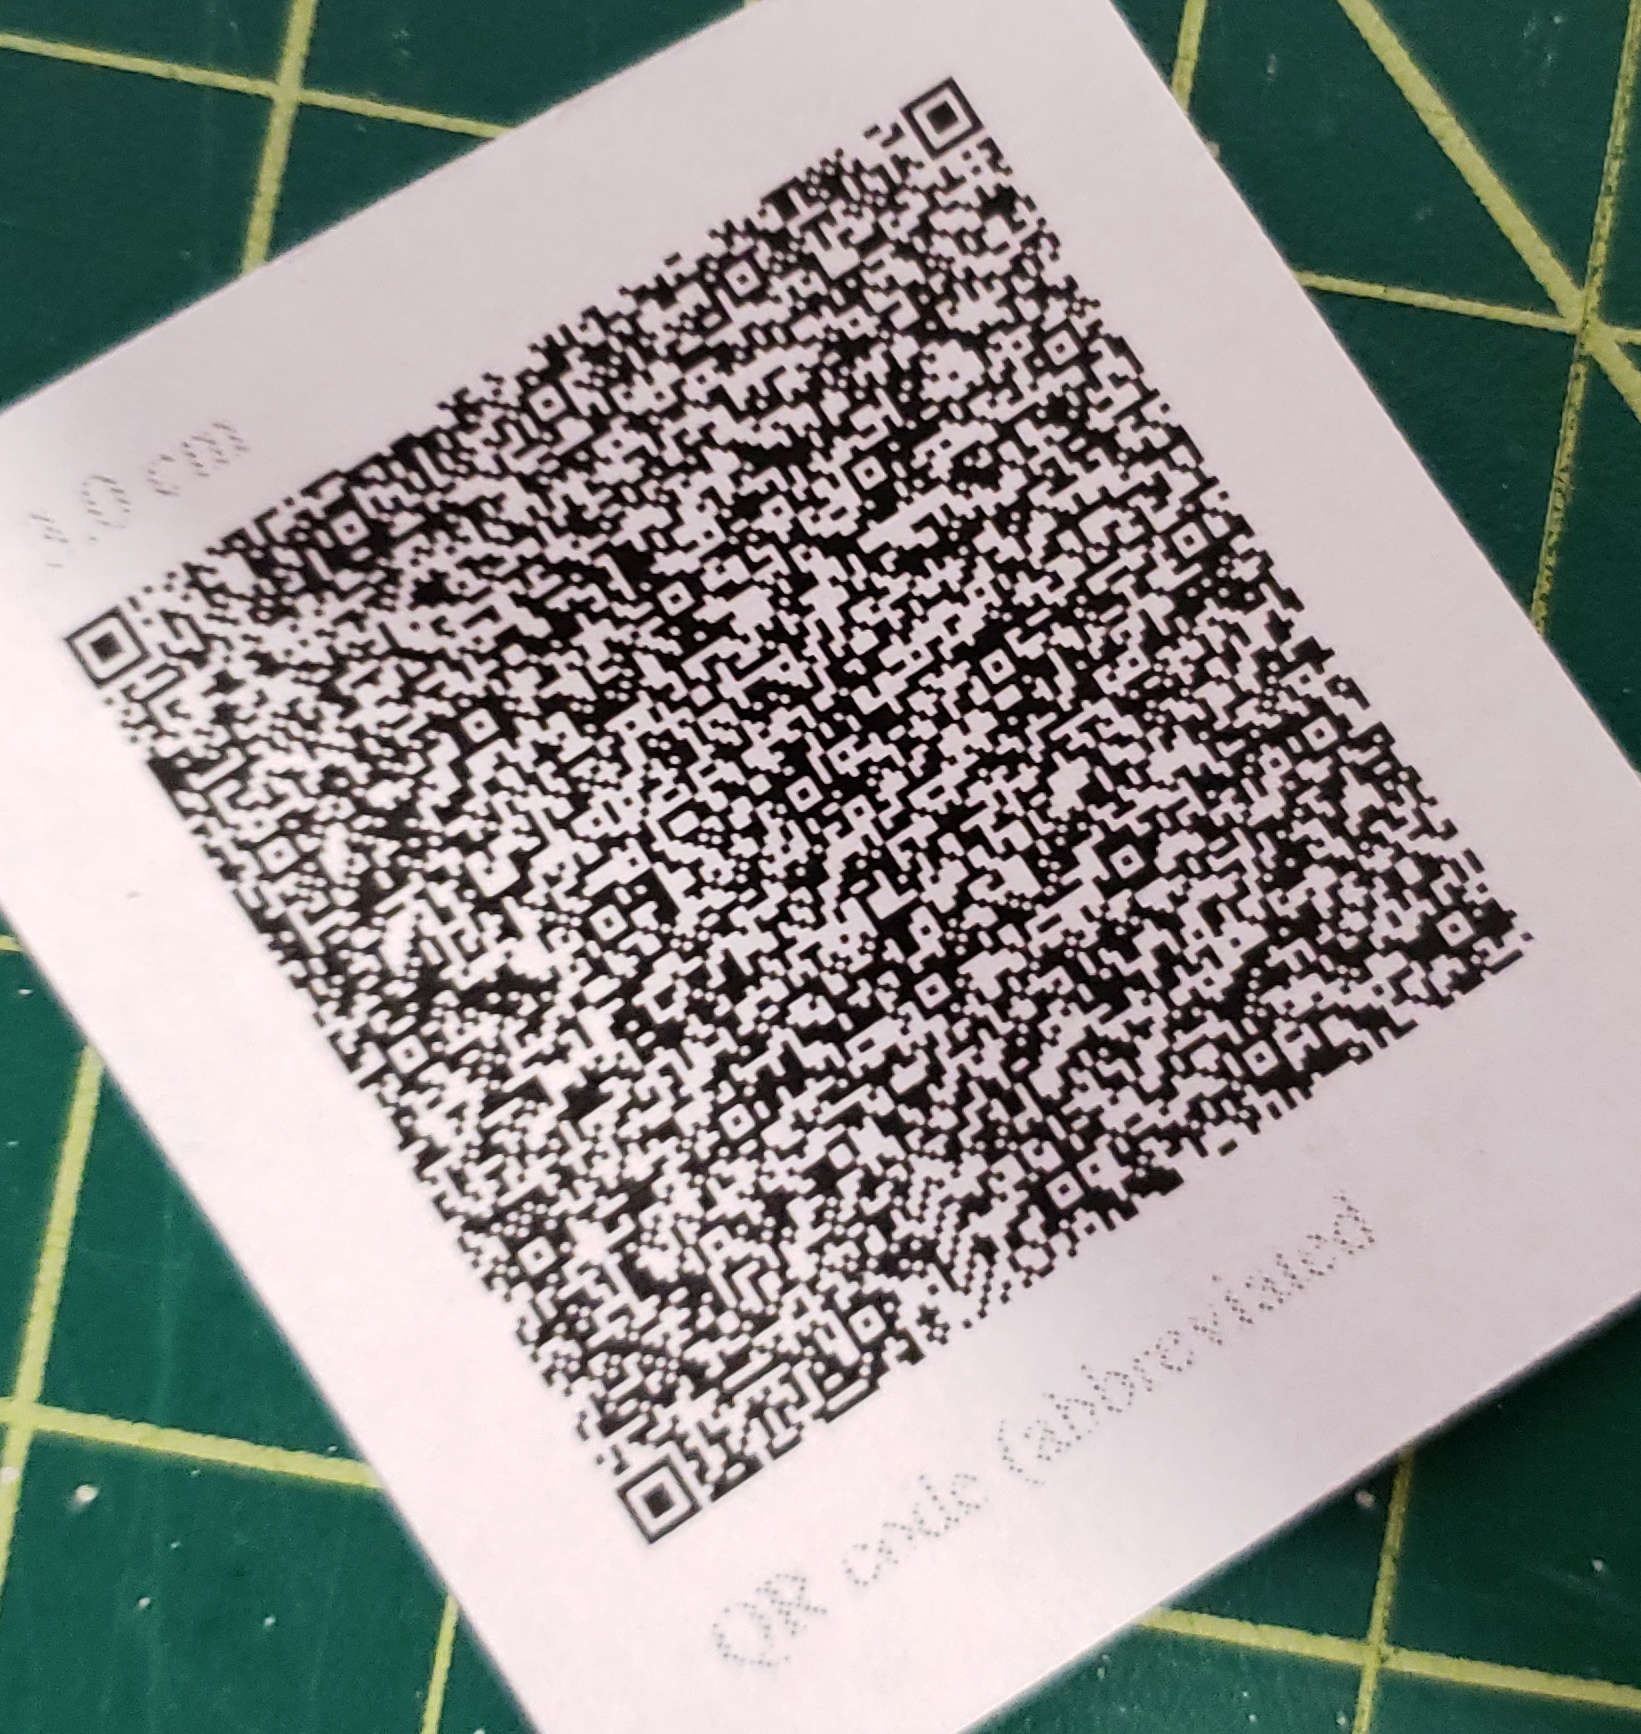QR_CODE: (39, 54, 1599, 1574)
